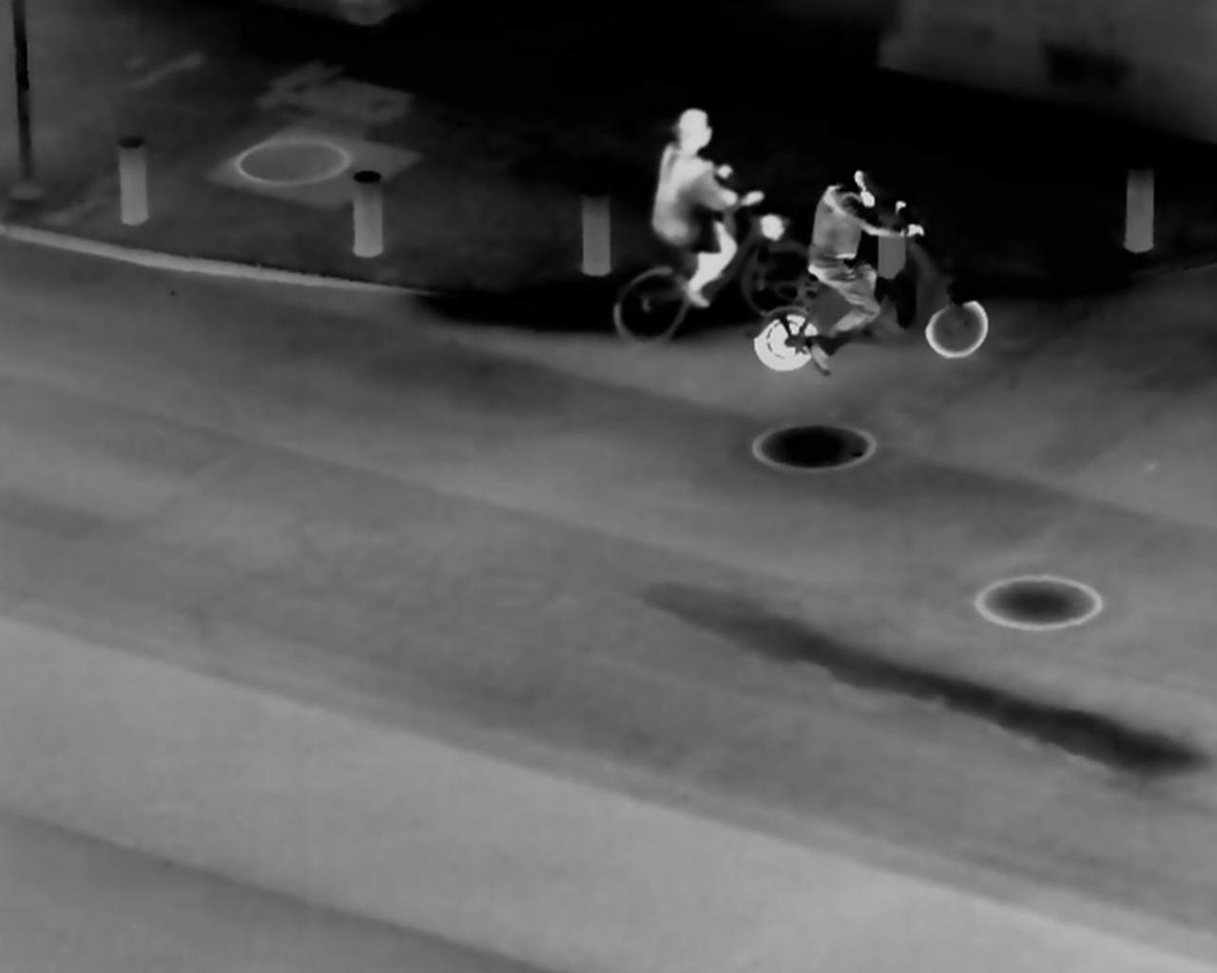person: (647, 97, 767, 309), (807, 158, 912, 377)
